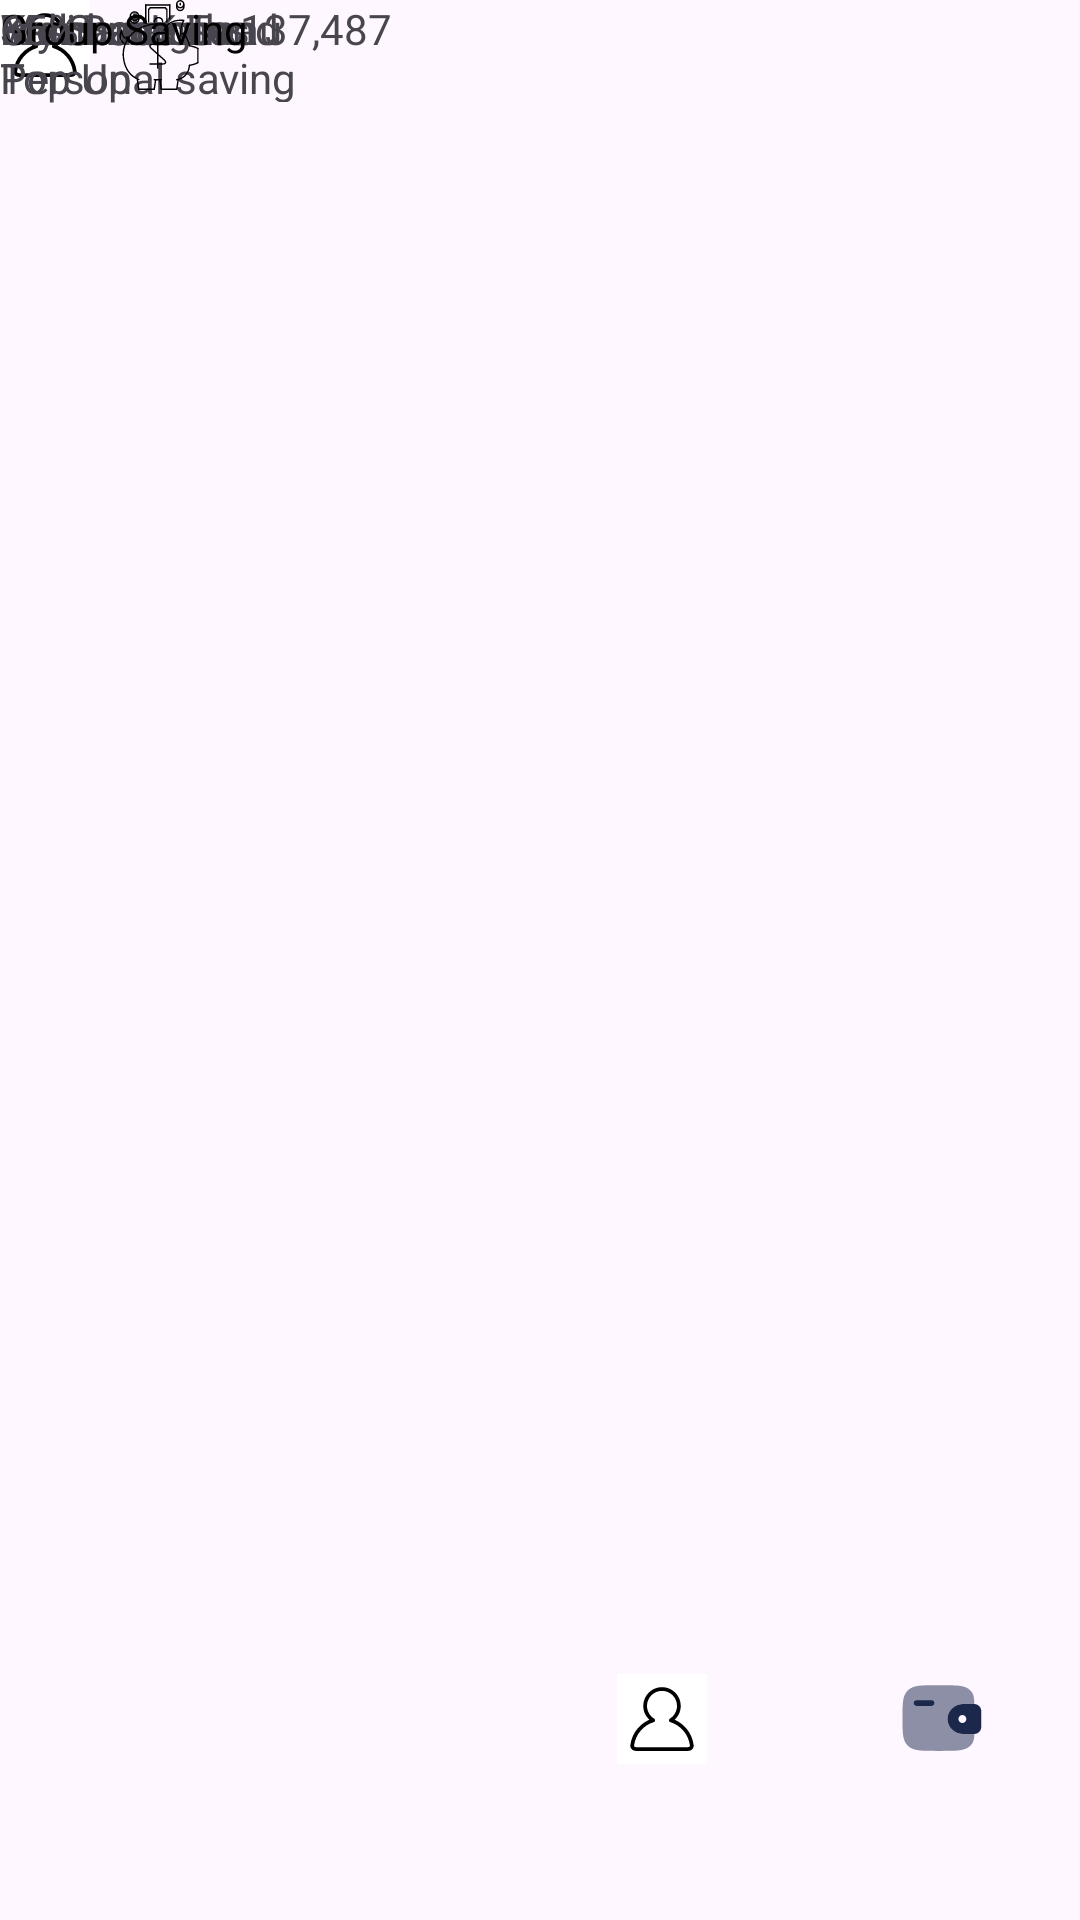

Point at icon controls on the screen. Image size 1080w x 1920h, points as [x,y].
wallet: [942,1718]
